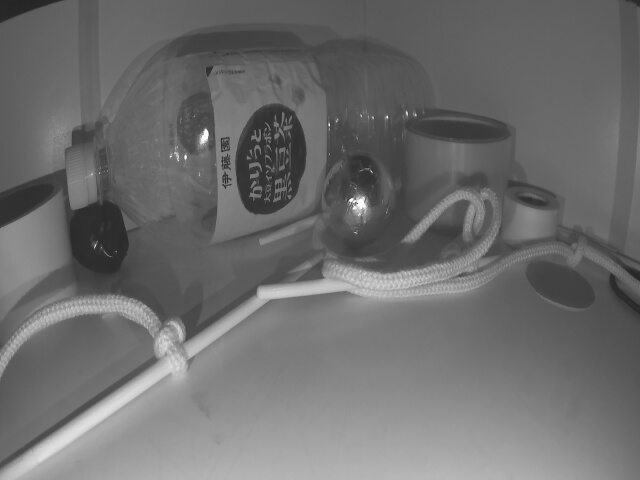Dead: (72, 201, 130, 272)
Live: (323, 152, 396, 246)
